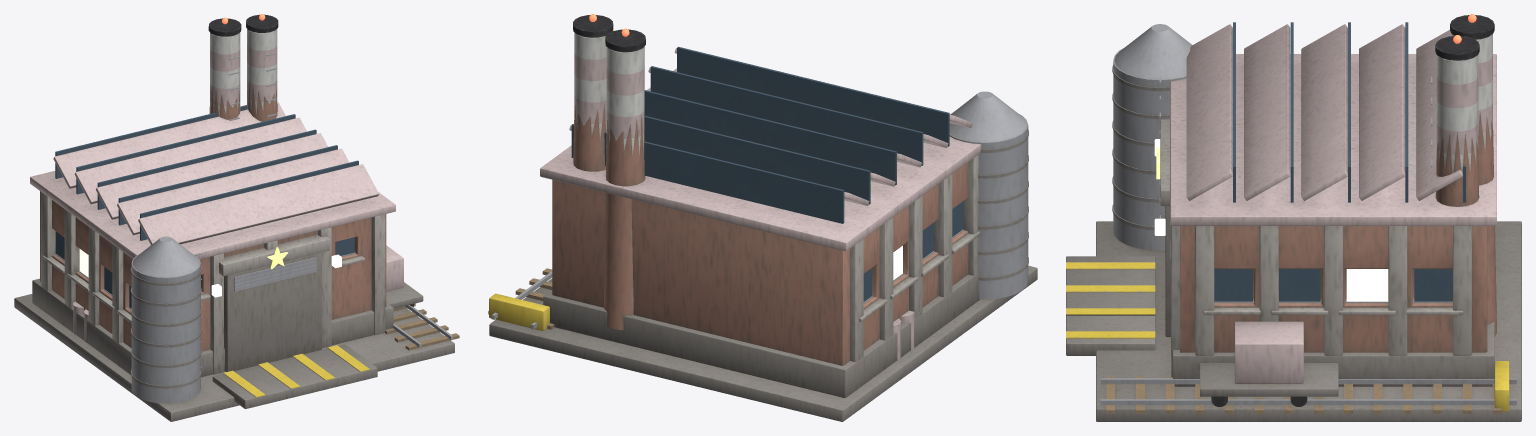
The model's file is red_factory.glb.
3 renders of one model, left to right at view 1: azimuth 30°, elevation 25°; view 2: azimuth 150°, elevation 25°; view 3: azimuth 270°, elevation 25°, orthographic. The views are drawn at different scales.
Visible parts, largest first — view 1: Hull; view 2: Hull; view 3: Hull.
Part boxes in pixels (x1,y1,x2,y2): Hull: (14, 14, 459, 421); Hull: (488, 14, 1037, 421); Hull: (1066, 14, 1521, 421).
Size of the model in its own units: 9.62 by 7.74 by 9.2.
Materials: 15 (15 with a texture image).
